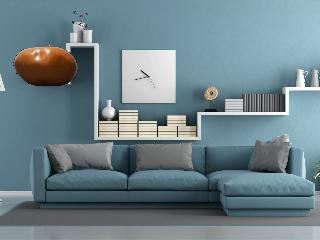potato: (13, 44, 80, 89)
